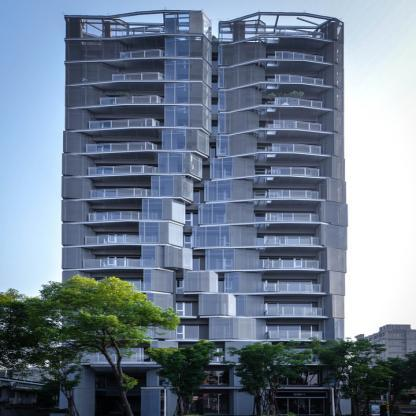Balcony: (89, 118, 159, 130), (85, 234, 156, 245), (87, 142, 157, 153), (100, 95, 167, 106), (83, 258, 156, 268), (91, 188, 157, 199), (88, 165, 158, 175), (275, 51, 323, 65), (110, 72, 169, 83), (89, 212, 156, 221), (120, 49, 174, 60), (263, 283, 321, 293), (264, 236, 319, 246), (274, 74, 323, 85), (269, 330, 322, 340), (262, 260, 320, 269), (273, 143, 320, 154), (276, 97, 322, 108), (89, 283, 151, 291), (273, 120, 321, 130), (268, 307, 321, 316), (266, 213, 318, 222), (268, 190, 318, 199), (270, 167, 319, 176), (270, 355, 323, 363)
Building Outline: (49, 6, 352, 415)
Door: (289, 399, 311, 415), (96, 211, 119, 224), (96, 190, 115, 201), (110, 257, 125, 269), (109, 235, 123, 247), (98, 143, 110, 155), (98, 168, 112, 178), (268, 303, 277, 317), (100, 121, 111, 132), (267, 281, 277, 293), (269, 147, 280, 157), (268, 124, 279, 134), (267, 214, 277, 225), (268, 170, 280, 179), (269, 259, 278, 270), (269, 192, 279, 200)
Facade: (50, 7, 352, 416)
Glass Wall: (199, 294, 264, 317), (65, 62, 120, 87), (192, 226, 257, 247), (165, 36, 213, 64), (65, 40, 126, 62), (65, 18, 128, 39), (165, 13, 212, 41), (198, 202, 254, 225), (142, 245, 193, 270), (209, 317, 266, 339), (162, 129, 210, 155), (165, 106, 211, 133), (165, 83, 211, 109), (165, 60, 210, 86), (139, 222, 184, 247), (206, 249, 259, 270), (210, 155, 254, 180), (218, 20, 265, 43), (159, 153, 202, 178), (219, 65, 265, 88), (218, 87, 262, 111), (218, 43, 265, 65), (204, 180, 253, 201), (152, 176, 193, 201), (143, 199, 185, 223), (225, 341, 272, 362), (216, 132, 257, 156), (218, 109, 258, 133), (180, 395, 228, 415), (62, 131, 93, 157), (316, 247, 347, 273), (315, 201, 347, 226), (65, 86, 103, 107), (225, 272, 262, 293), (62, 153, 93, 178), (316, 224, 347, 249), (316, 178, 346, 203), (61, 224, 92, 248), (183, 272, 218, 293), (317, 19, 343, 47), (61, 176, 94, 198), (143, 269, 173, 293), (318, 64, 344, 91), (317, 271, 345, 296), (319, 40, 344, 68), (65, 108, 95, 131), (318, 110, 344, 136), (318, 87, 344, 113), (61, 200, 91, 222), (318, 156, 344, 181), (62, 247, 92, 268), (319, 133, 344, 158), (318, 295, 344, 318), (150, 341, 178, 362), (62, 271, 91, 291), (319, 318, 344, 341), (145, 294, 172, 315)
Window: (96, 348, 151, 361), (269, 371, 320, 385), (267, 325, 311, 339), (180, 371, 227, 384), (96, 279, 140, 291), (278, 348, 312, 363), (280, 303, 311, 315), (280, 280, 312, 291), (176, 325, 199, 339), (184, 188, 200, 204), (176, 302, 192, 316), (281, 259, 301, 270), (185, 258, 200, 272), (177, 280, 192, 294), (209, 123, 225, 136), (184, 235, 198, 249), (310, 399, 323, 414), (210, 100, 224, 113), (210, 348, 224, 361), (211, 146, 226, 158), (184, 213, 199, 225), (276, 399, 288, 414), (210, 81, 224, 92), (211, 58, 225, 69), (218, 281, 230, 293), (255, 259, 268, 270), (256, 191, 267, 204), (255, 168, 266, 181), (255, 146, 266, 159), (256, 124, 267, 137), (256, 102, 267, 114), (255, 213, 265, 226), (255, 280, 265, 292), (286, 237, 299, 245), (255, 236, 264, 246), (268, 56, 278, 64), (282, 213, 292, 221)
